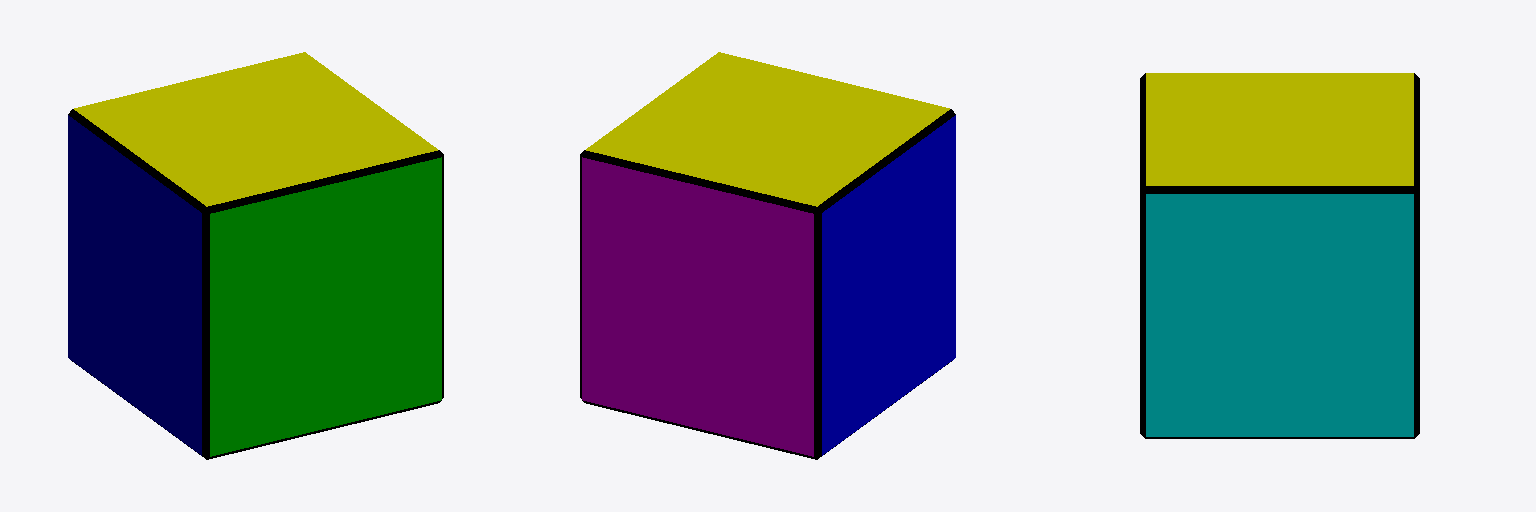
Rendered from cubie_2.obj.
3 views of the same model, side by side, from view 1: azimuth 30°, elevation 25°; view 2: azimuth 150°, elevation 25°; view 3: azimuth 270°, elevation 25° (orthographic).
Visible parts, largest first — view 1: Cube.017_Cube.047; view 2: Cube.017_Cube.047; view 3: Cube.017_Cube.047.
Part boxes in pixels (x1,y1,x2,y2): Cube.017_Cube.047: (68,52,443,459); Cube.017_Cube.047: (580,52,955,459); Cube.017_Cube.047: (1140,73,1419,438).
Size of the model in its own units: 1 by 1 by 1.